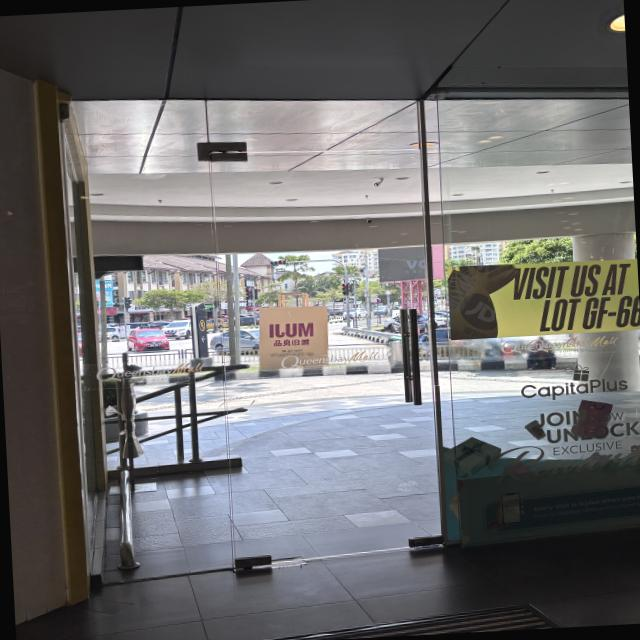door: (212, 147, 449, 571)
